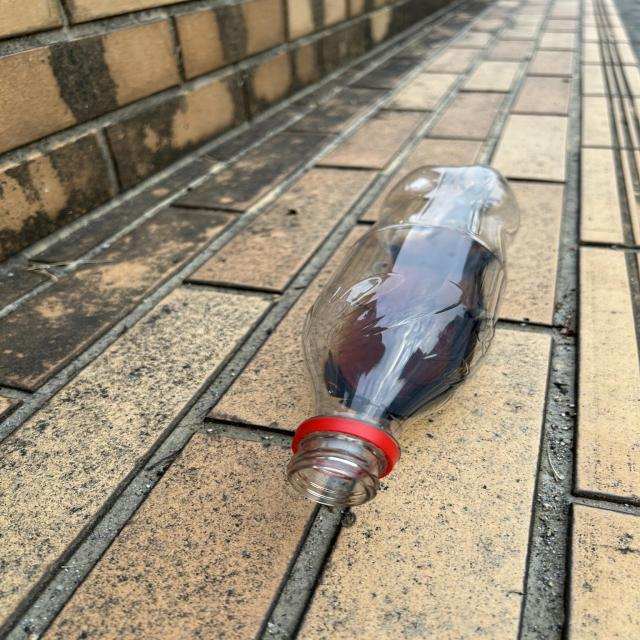low: (287, 165, 519, 506)
